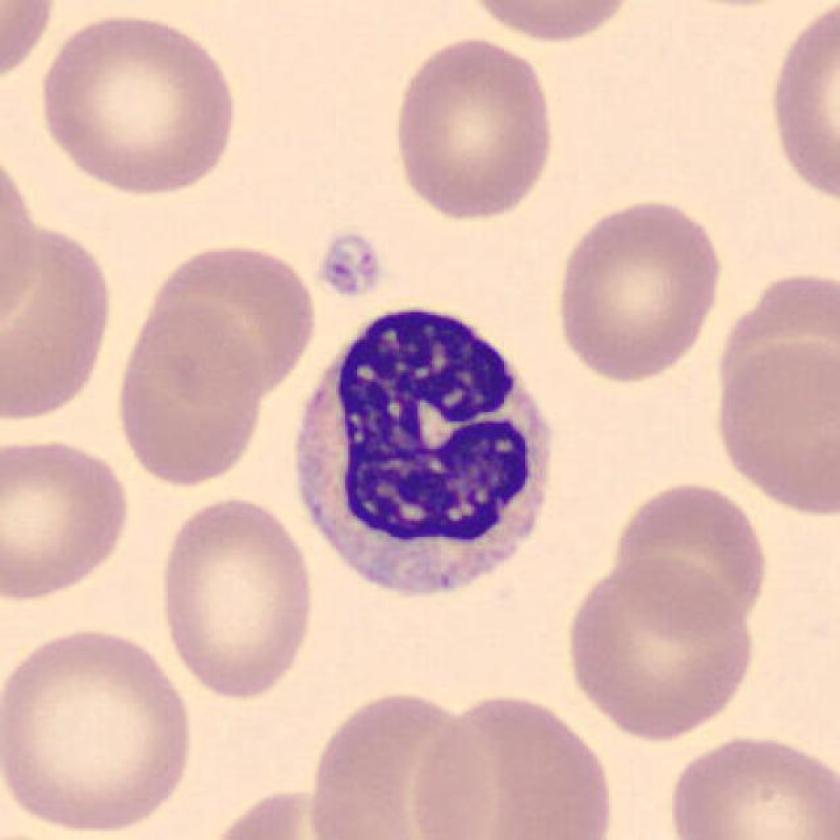neutrophil: (298, 312, 551, 594)
